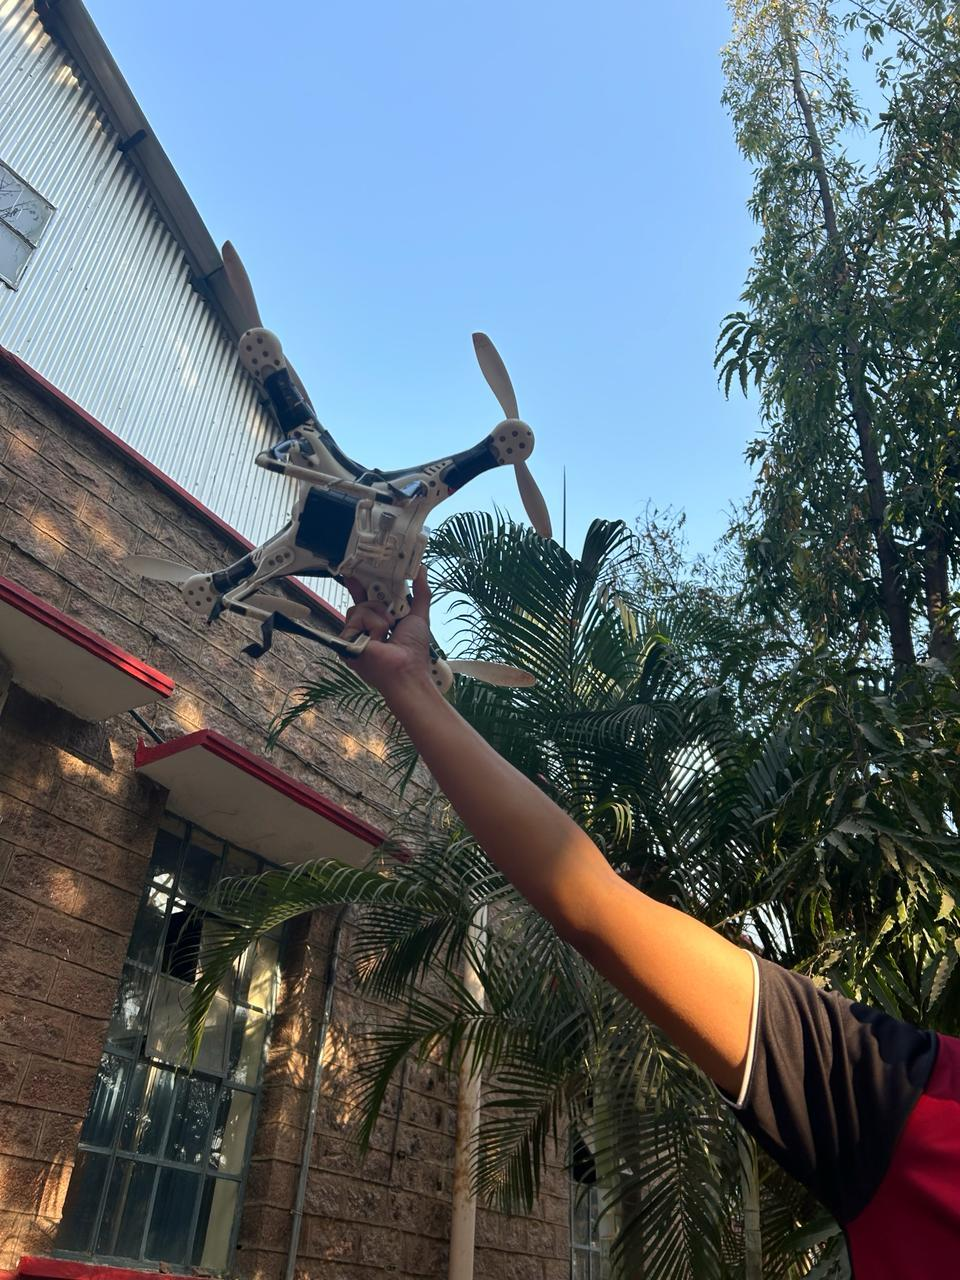drone: (117, 238, 555, 688)
